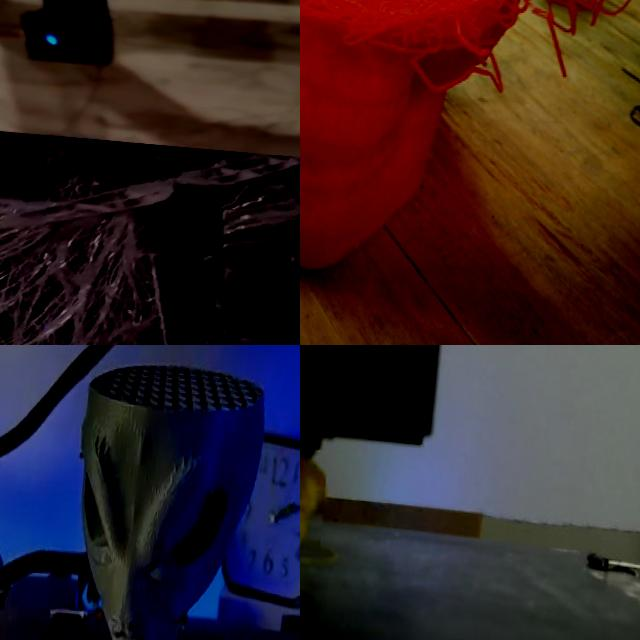spaghetti: (0, 115, 300, 345)
